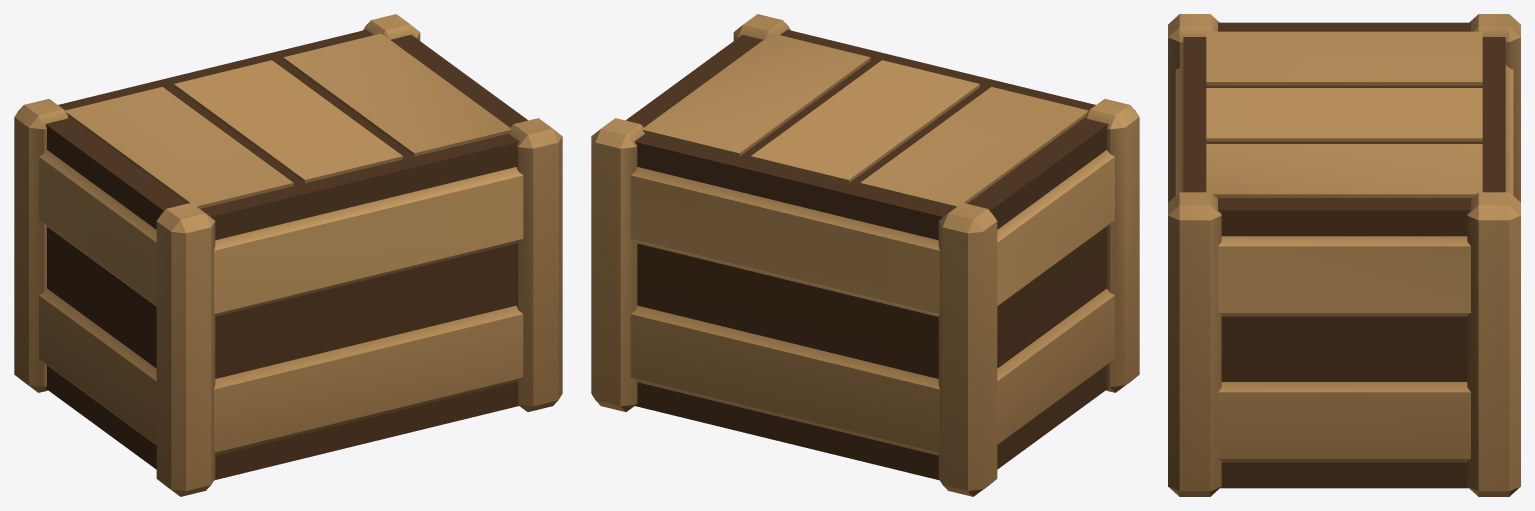
Rendered from crate.glb.
3 views of the same model, side by side, from view 1: azimuth 30°, elevation 25°; view 2: azimuth 150°, elevation 25°; view 3: azimuth 270°, elevation 25° (orthographic). The views are drawn at different scales.
Visible parts, largest first — view 1: crate_mesh; view 2: crate_mesh; view 3: crate_mesh.
Part boxes in pixels (<box>): crate_mesh: <box>14,14,562,496</box>; crate_mesh: <box>591,14,1139,496</box>; crate_mesh: <box>1168,14,1520,496</box>.
Size of the model in its own units: 0.62 by 0.42 by 0.46.
